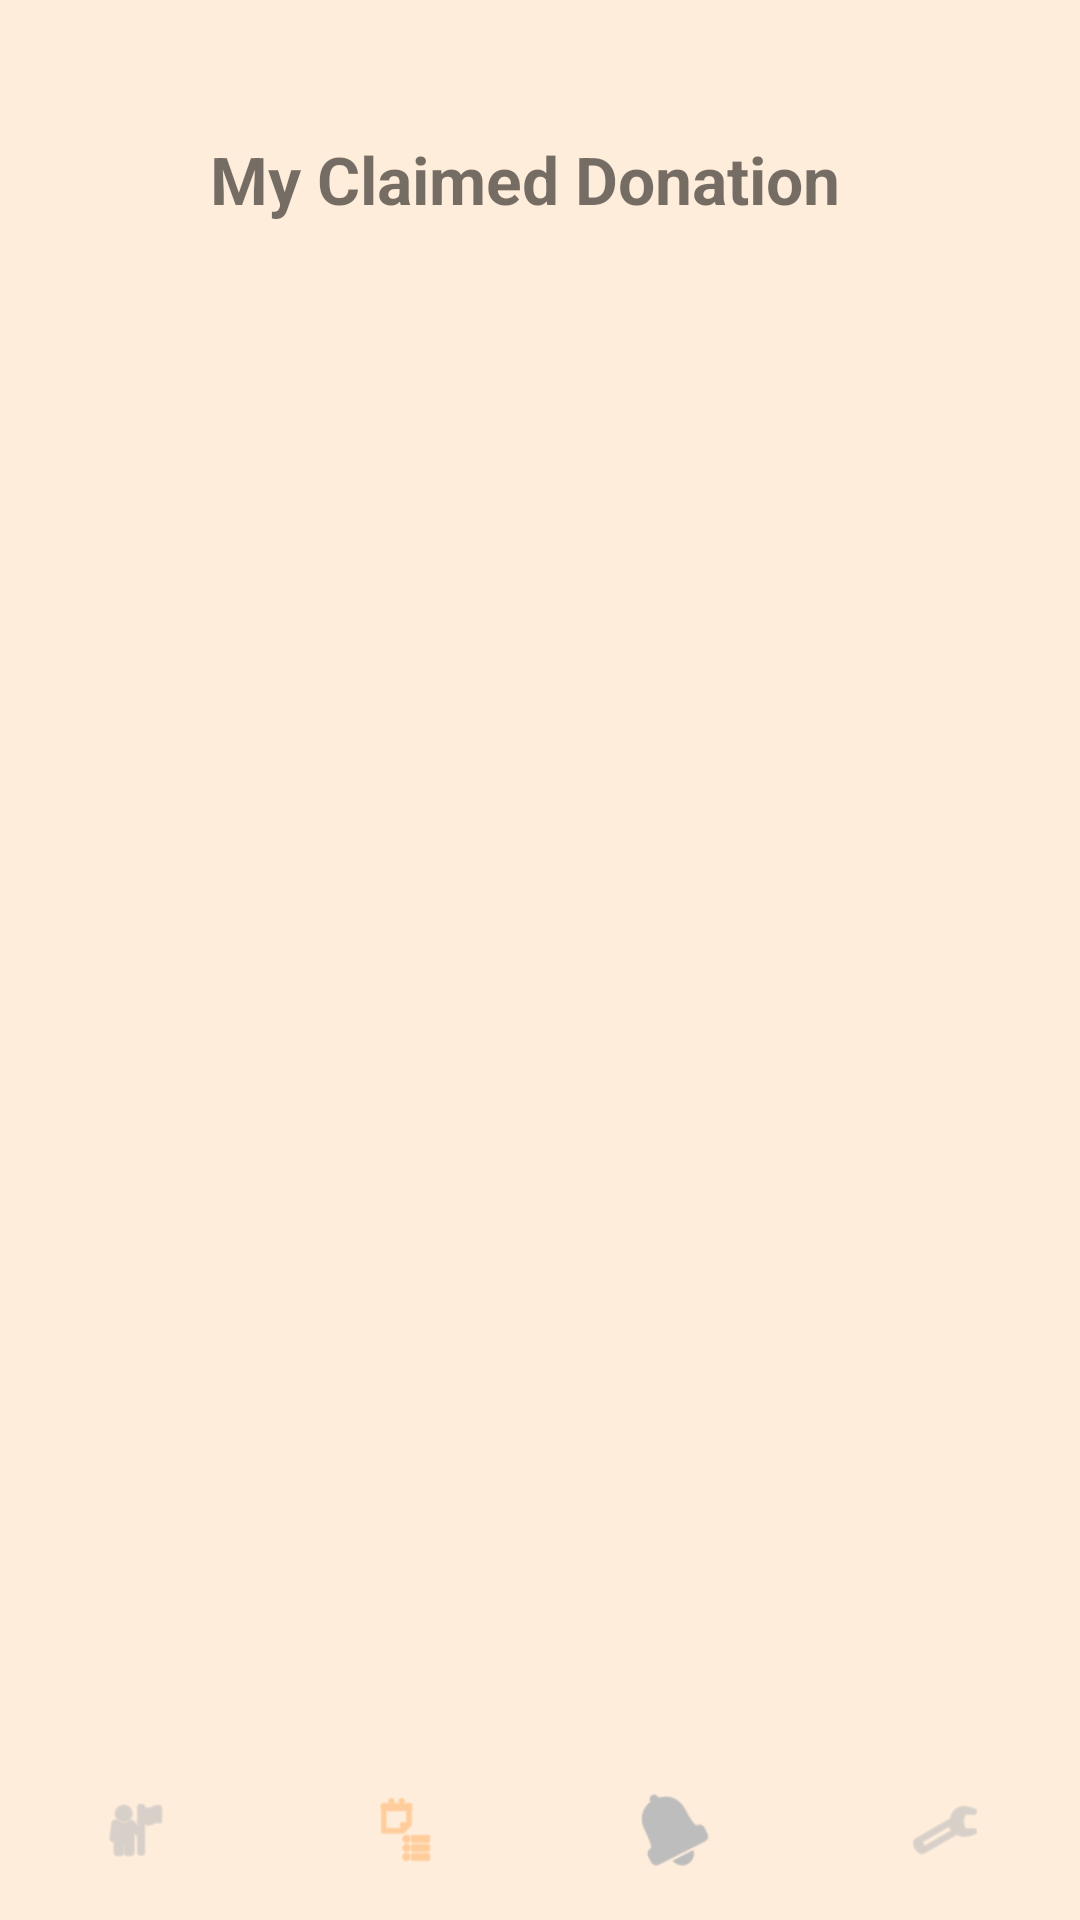

Named icons in this screenshot (1080×1920) and their centers, (x=x, y=y):
agenda: (x=405, y=1829)
manage: (x=945, y=1830)
myplaces: (x=136, y=1830)
popup reminder: (x=675, y=1830)
